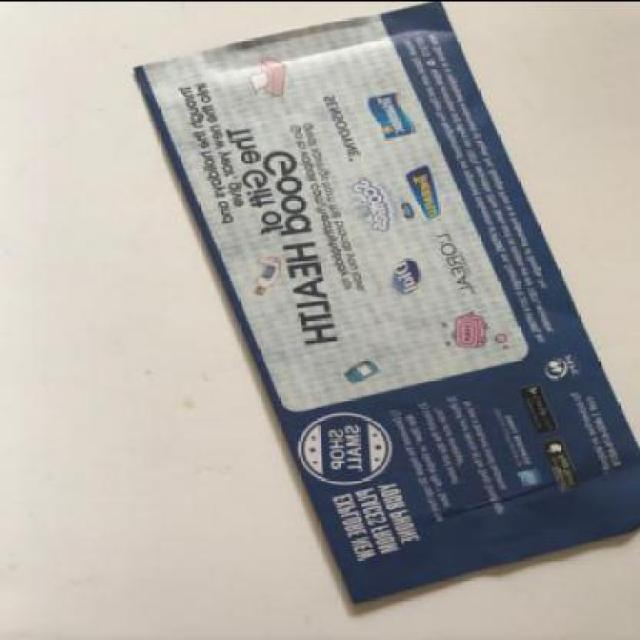PAPER: (134, 0, 638, 603)
